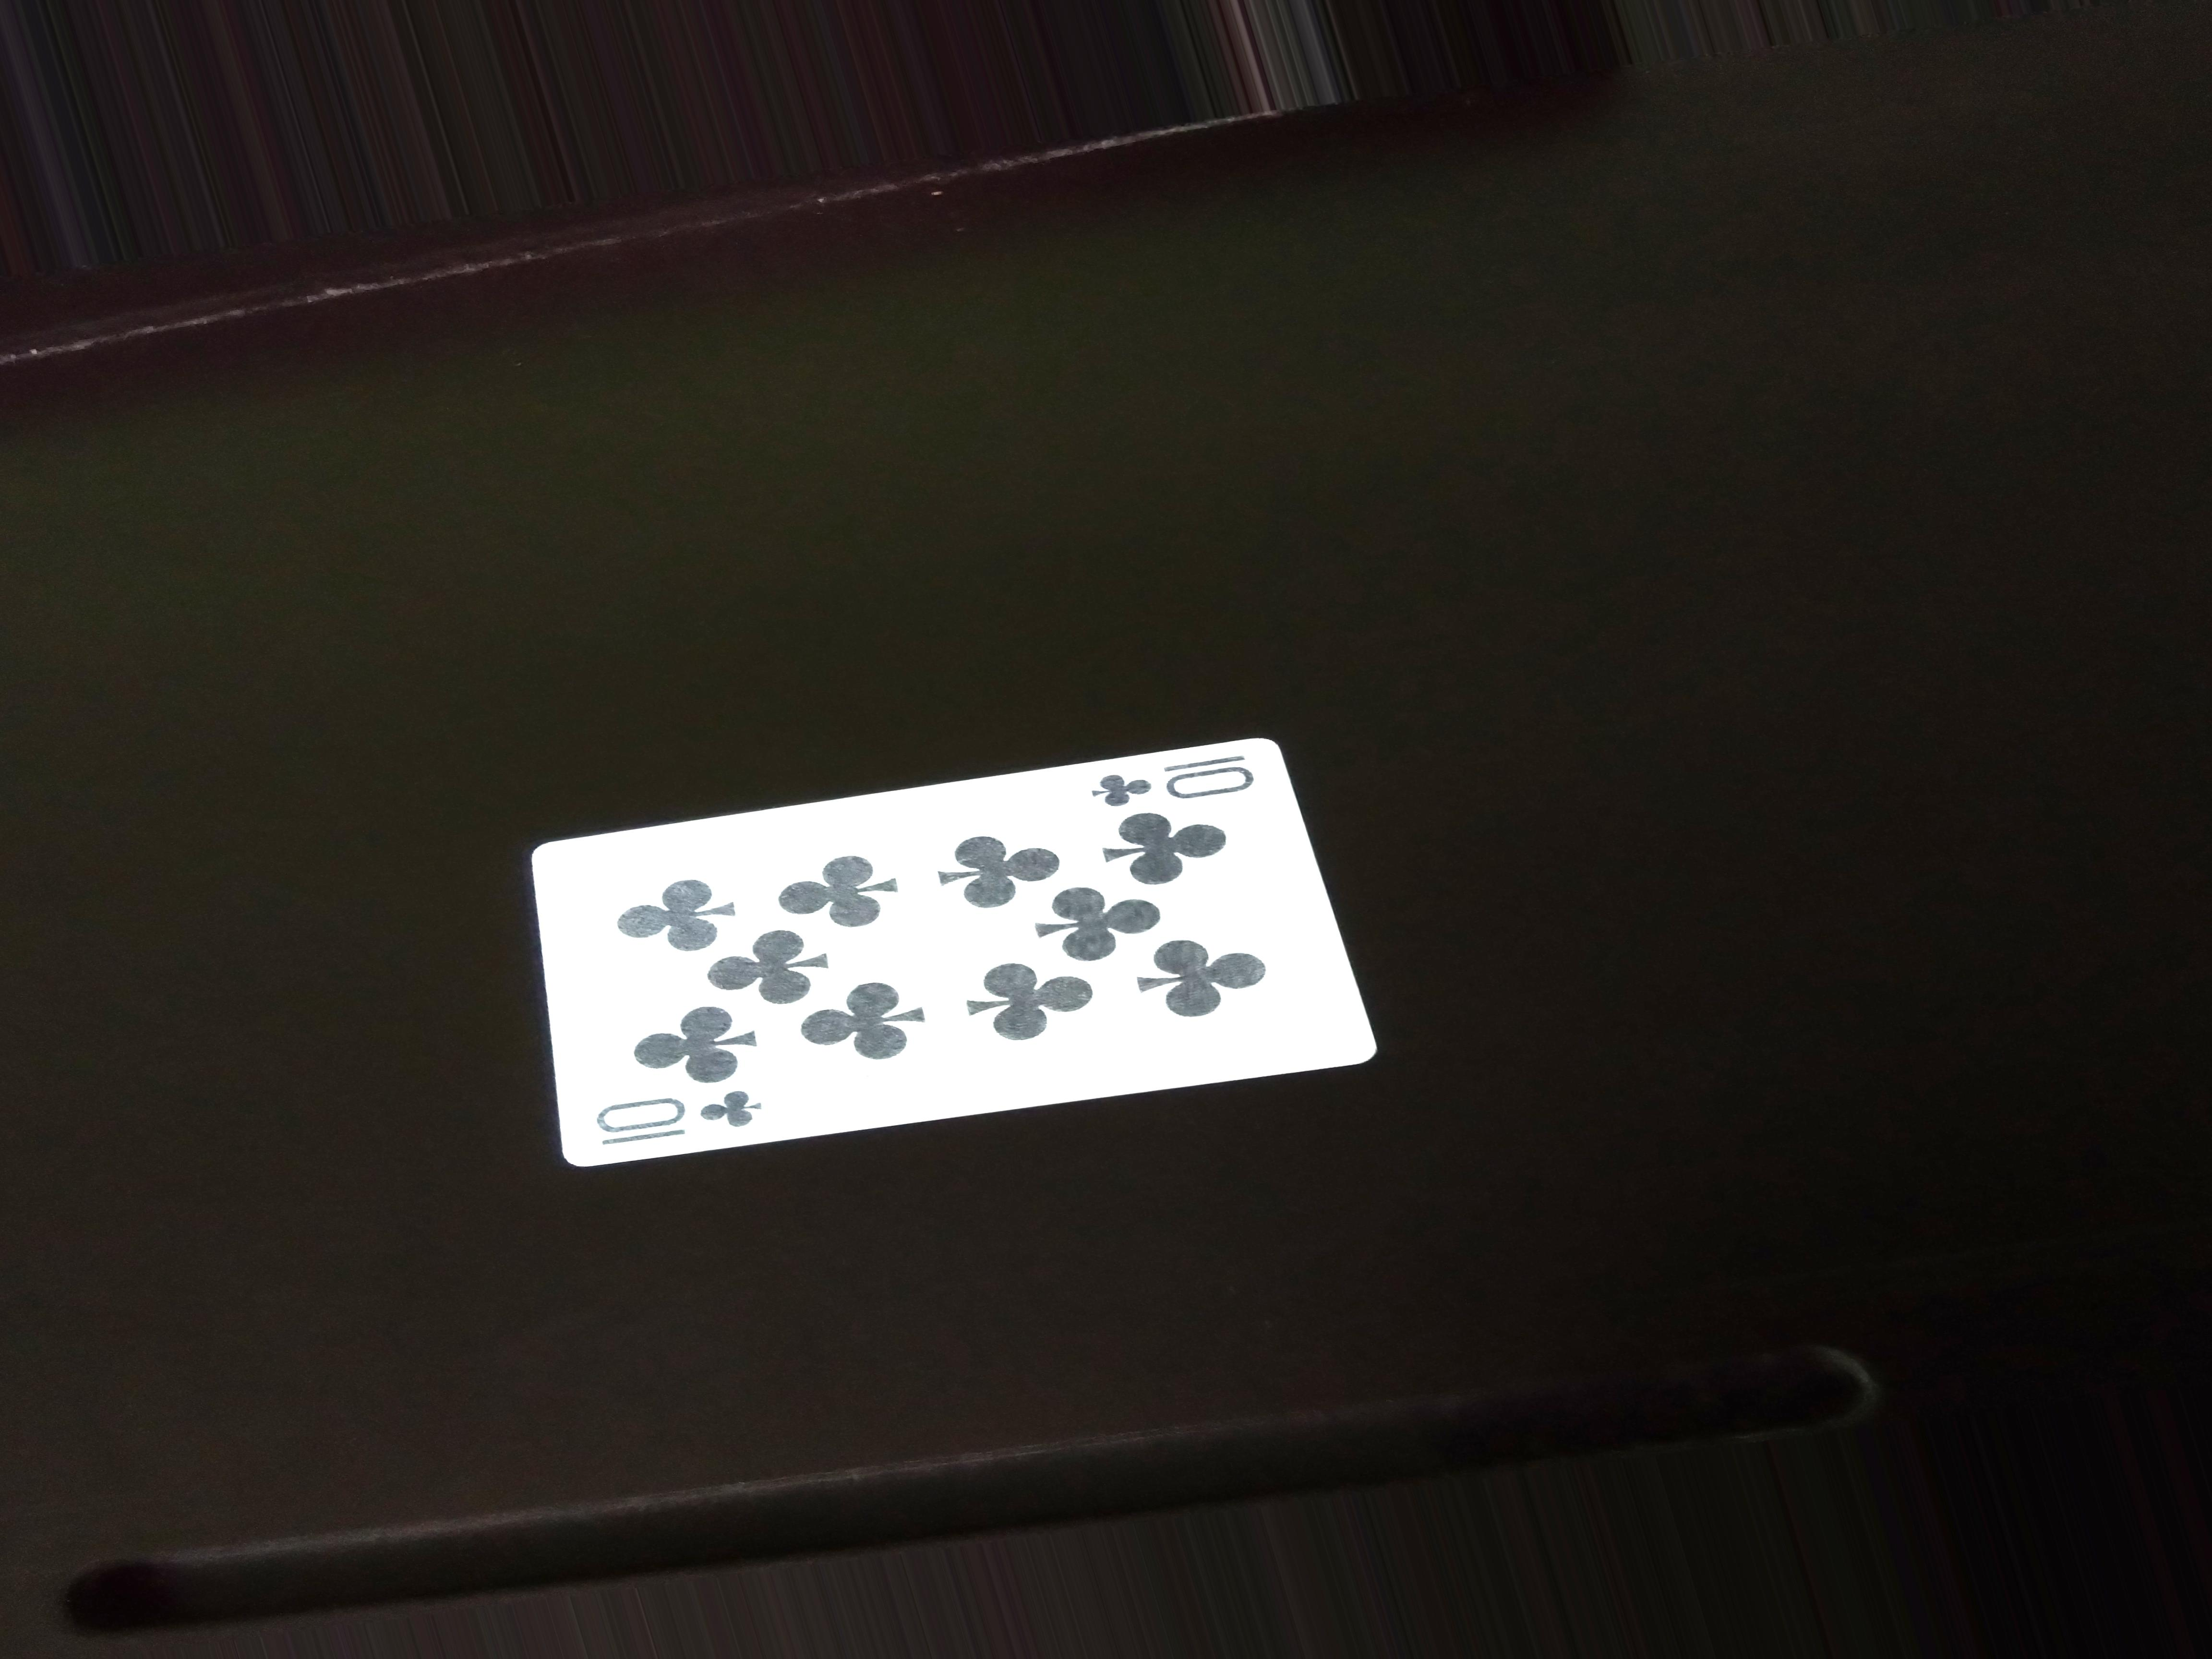10C: (587, 1086, 777, 1147)
